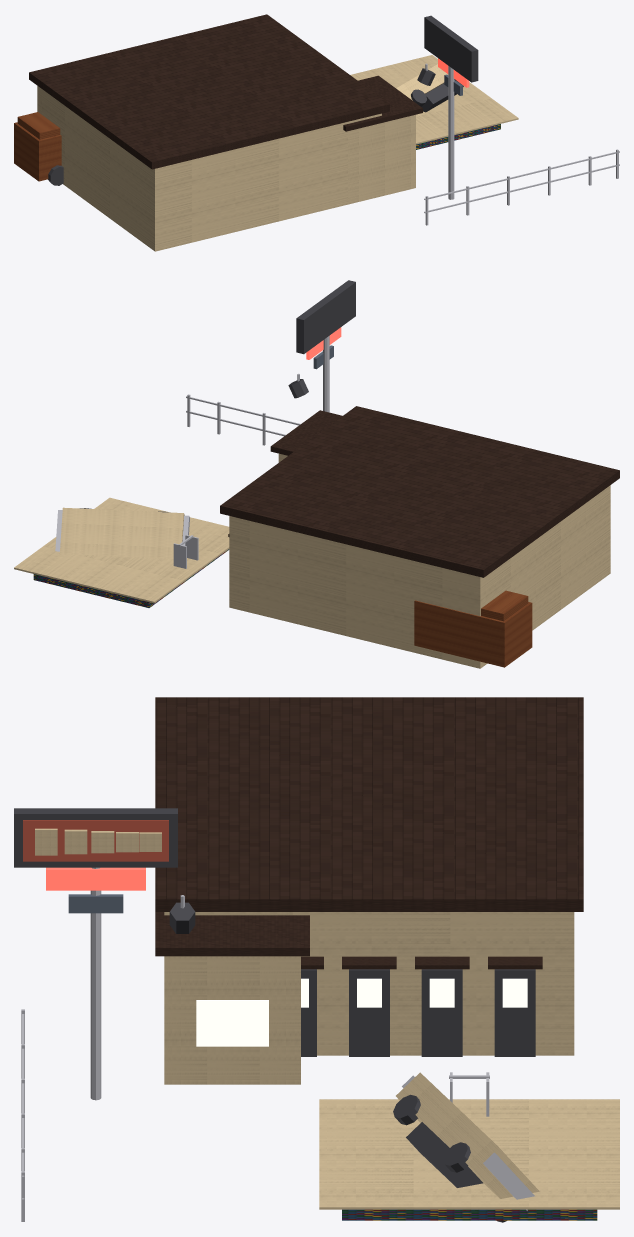
The model's file is motel.glb.
The picture shows the model from 3 angles, top to bottom: view 1: azimuth 30°, elevation 25°; view 2: azimuth 150°, elevation 25°; view 3: azimuth 270°, elevation 25°; orthographic projection. The views are drawn at different scales.
Visible parts, largest first — view 1: motel; view 2: motel; view 3: motel.
Boxes of the visible parts, <box> form: motel: <box>14,14,619,251</box>; motel: <box>14,280,619,668</box>; motel: <box>14,697,619,1222</box>.
Size of the model in its own units: 19.7 by 7.8 by 13.3.
Materials: 11 (5 with a texture image).
